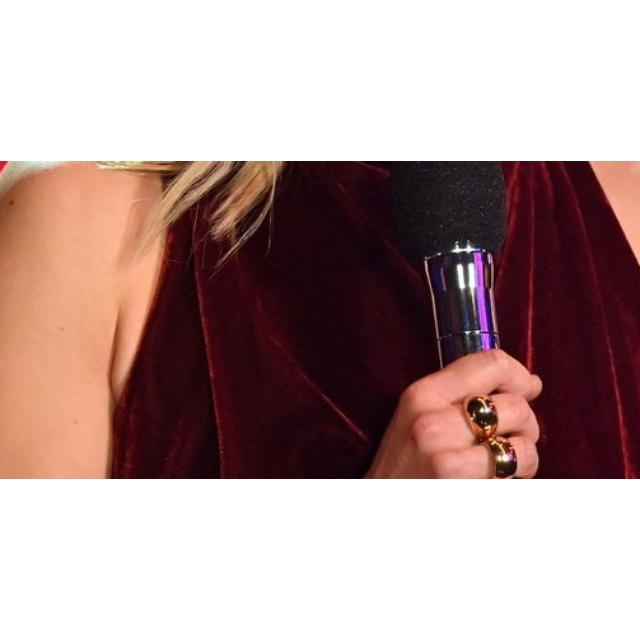cotton: (172, 276, 368, 478)
